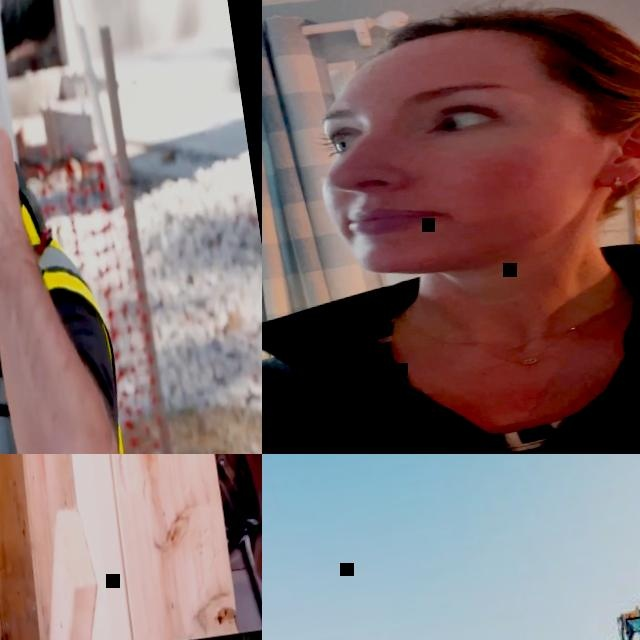NO-Hardhat: (335, 0, 639, 86)
NO-Mask: (321, 116, 640, 285)
NO-Safety Vest: (262, 267, 640, 454)
Person: (262, 0, 640, 454), (0, 0, 148, 454), (136, 454, 262, 630)
Safety Vest: (0, 182, 148, 454)
